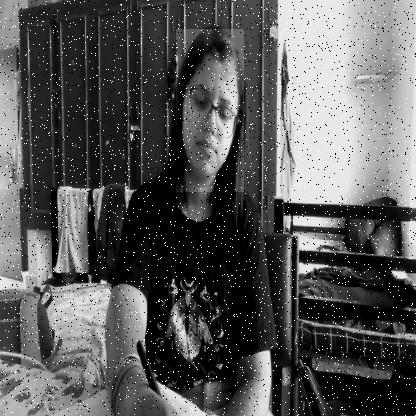Normal: (176, 29, 244, 192)
